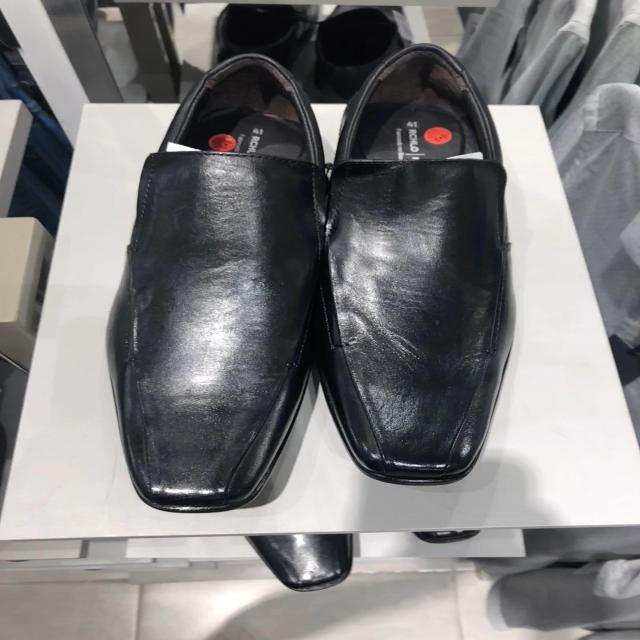shoe: (106, 56, 324, 515), (329, 46, 516, 487)
